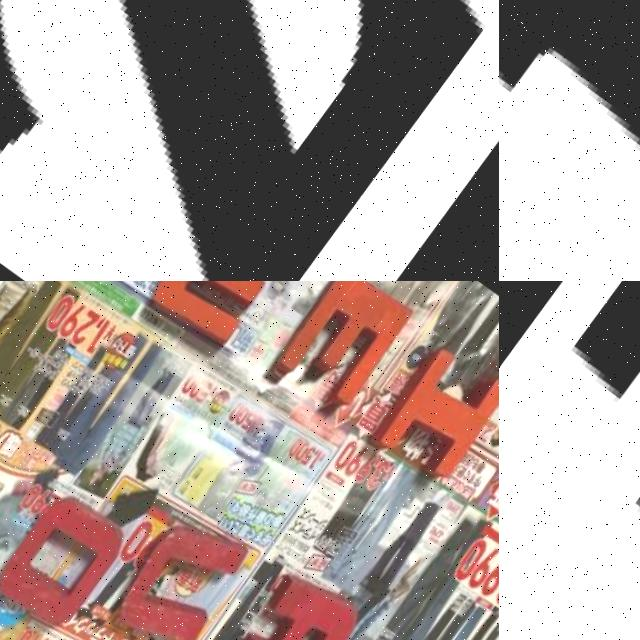A: (221, 556, 376, 640)
E: (264, 281, 423, 419)
F: (499, 281, 640, 640)
I: (374, 325, 499, 482)
O: (0, 487, 139, 640)
T: (499, 0, 640, 281)
U: (113, 497, 263, 640)
W: (143, 281, 295, 350)
Z: (0, 0, 499, 281)
